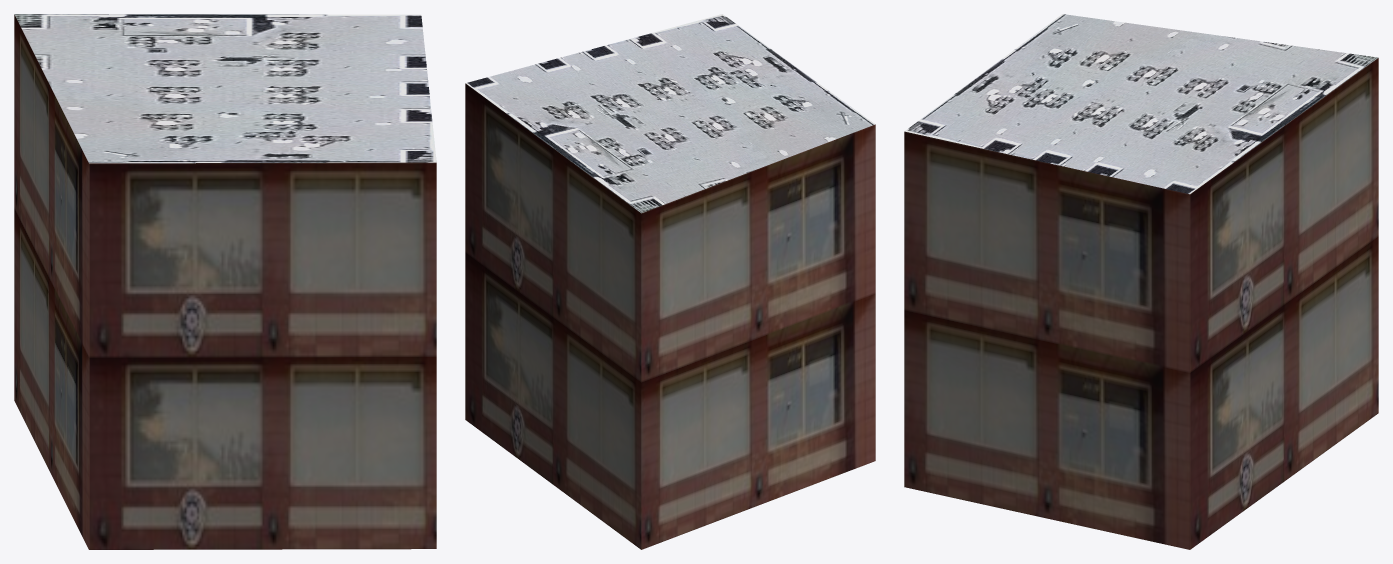
File: ResTex__2897.fbx
3 views of the same model, side by side, from view 1: azimuth 30°, elevation 25°; view 2: azimuth 150°, elevation 25°; view 3: azimuth 270°, elevation 25° (orthographic). The views are drawn at different scales.
Visible parts, largest first — view 1: CityEngineMaterial_13_m, CityEngineMaterial_4_m; view 2: CityEngineMaterial_13_m, CityEngineMaterial_4_m; view 3: CityEngineMaterial_13_m, CityEngineMaterial_4_m.
Boxes of the visible parts, <box> form: CityEngineMaterial_13_m: <box>14,14,436,549</box>; CityEngineMaterial_4_m: <box>14,14,436,163</box>; CityEngineMaterial_13_m: <box>465,83,875,549</box>; CityEngineMaterial_4_m: <box>465,14,875,213</box>; CityEngineMaterial_13_m: <box>904,58,1378,549</box>; CityEngineMaterial_4_m: <box>904,14,1378,194</box>.
Size of the model in its own units: 6.52 by 6 by 7.25.
2 materials, 2 textured.
